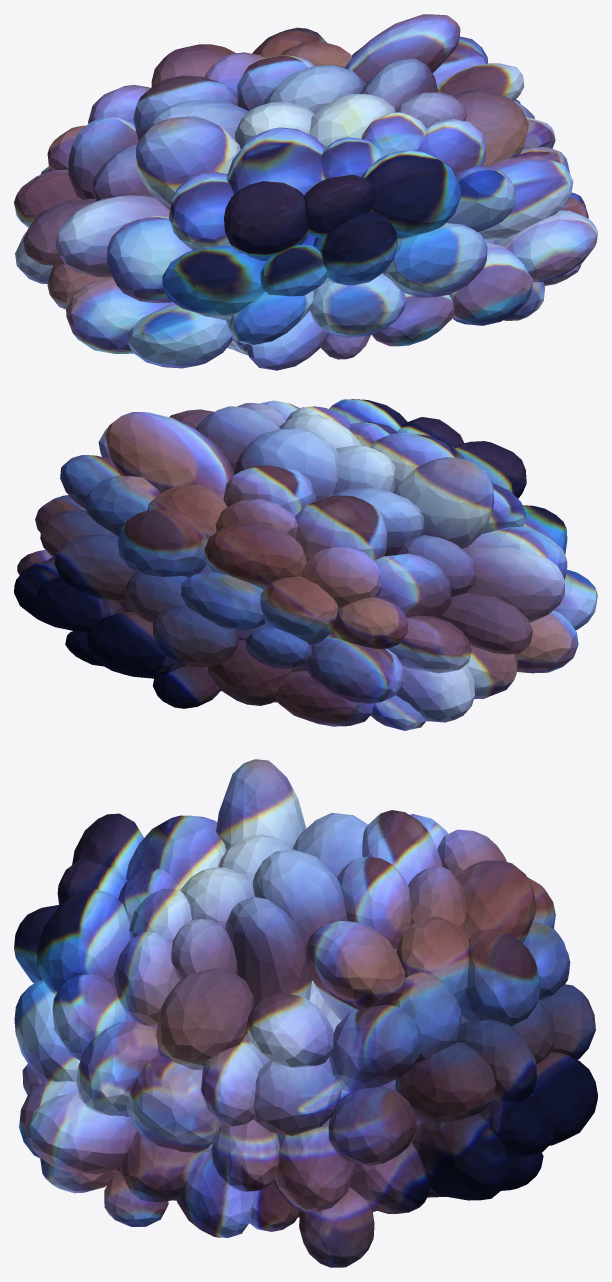
Rendered from bubblecoral2_1.dae.
3 views of the same model, one above another, from view 1: azimuth 30°, elevation 25°; view 2: azimuth 150°, elevation 25°; view 3: azimuth 270°, elevation 25° (orthographic). The views are drawn at different scales.
Parts seen in each view (by area): view 1: _1489_Bubble_coral_v1_v4_001; view 2: _1489_Bubble_coral_v1_v4_001; view 3: _1489_Bubble_coral_v1_v4_001.
Boxes of the visible parts, x1,y1,x2,y2 form: _1489_Bubble_coral_v1_v4_001: (14,14,597,370); _1489_Bubble_coral_v1_v4_001: (14,399,597,730); _1489_Bubble_coral_v1_v4_001: (14,759,597,1267).
Bounding box in the file's own units: 110 × 82.78 × 41.71.
1 material, 1 textured.
